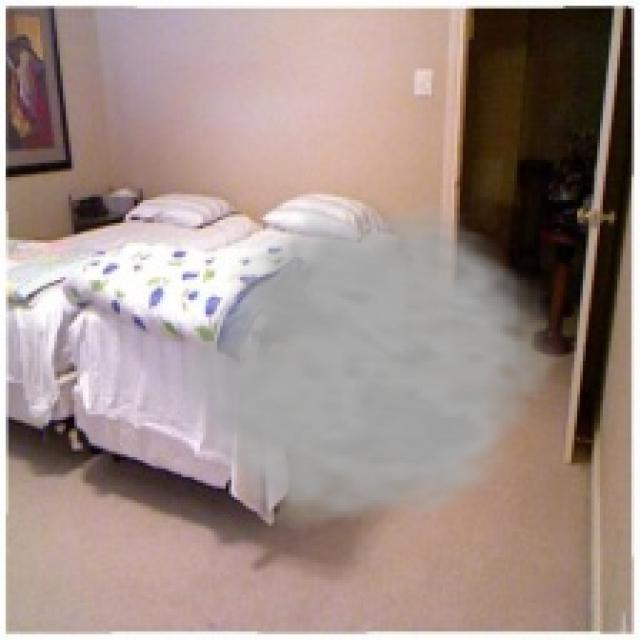Smoke: (168, 200, 574, 543)
